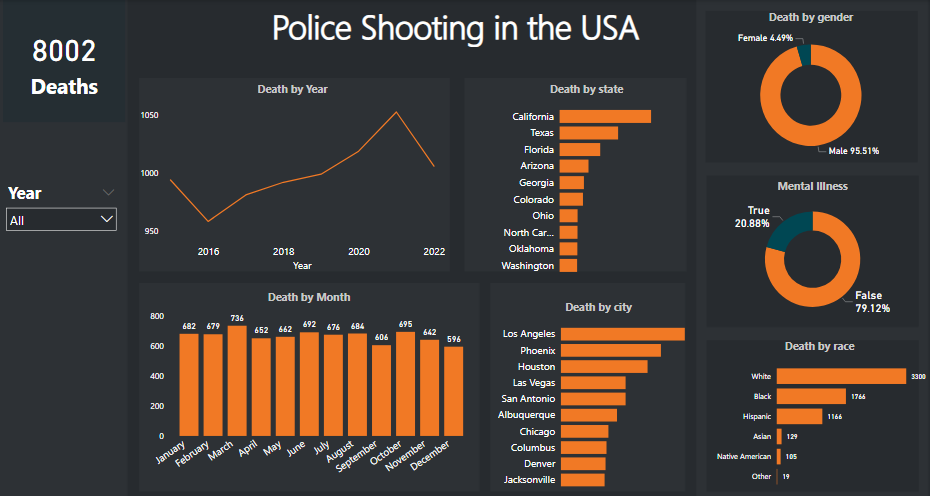

This screenshot's page, from the dashboard's own definition file:
{"tool":"powerbi","page":{"name":"Page 1","canvas":[1500,800],"ordinal":0},"visuals":[{"type":"donutChart","title":"Death by gender","fields":{"Category":["police_shooting.gender"],"Y":["Calculation.Total_Death"]},"box":[1140.3,14.5,335.5,254.8],"z":0},{"type":"barChart","title":"Death by state","fields":{"Category":["police_shooting.state"],"Y":["Calculation.Total_Death"]},"box":[790.3,130.6,311.3,324.2],"z":1000},{"type":"clusteredBarChart","title":"Death by race","fields":{"Category":["police_shooting.race"],"Y":["Calculation.Total_Death"]},"box":[1143.5,545.2,356.5,254.8],"z":2000},{"type":"lineChart","title":"Death by Year","fields":{"Category":["police_shooting.date.Variation.Date Hierarchy.Year"],"Y":["Calculation.Total_Death"]},"box":[221,130.6,501.6,312.9],"z":3000},{"type":"card","fields":{"Values":["Calculation.Total_Death"]},"box":[4.8,0,196.8,196.8],"z":4000},{"type":"slicer","fields":{"Values":["police_shooting.date.Variation.Date Hierarchy.Year"]},"box":[0,287.1,198.4,119.4],"z":5000},{"type":"clusteredColumnChart","title":"Death by Month","fields":{"Category":["police_shooting.date.Variation.Date Hierarchy.Month"],"Y":["Calculation.Total_Death"]},"box":[229,466.1,538.7,321],"z":6000},{"type":"clusteredBarChart","title":"Death by city","fields":{"Category":["police_shooting.city"],"Y":["Calculation.Total_Death"]},"box":[790.3,482.3,350,317.7],"z":7000},{"type":"donutChart","title":"Mental Illness","fields":{"Category":["police_shooting.signs_of_mental_illness"],"Y":["Calculation.Total_Death"]},"box":[1145.2,287.1,330.6,238.7],"z":8000},{"type":"textbox","box":[433.9,0,635.5,80.6],"z":10000}]}

Visuals, with their boxes in screenshot pixels (x1, y1, x2, y2), scaled from the page's 1500x800 canvas onto the 930x496 screenshot:
"Death by gender" donutChart: bbox(707, 9, 915, 167)
"Death by state" barChart: bbox(490, 81, 683, 282)
"Death by race" clusteredBarChart: bbox(709, 338, 929, 495)
"Death by Year" lineChart: bbox(137, 81, 448, 275)
card - Calculation.Total_Death: bbox(3, 0, 125, 122)
slicer - police_shooting.date.Variation.Date Hierarchy.Year: bbox(0, 178, 123, 252)
"Death by Month" clusteredColumnChart: bbox(142, 289, 476, 488)
"Death by city" clusteredBarChart: bbox(490, 299, 707, 495)
"Mental Illness" donutChart: bbox(710, 178, 915, 326)
textbox: bbox(269, 0, 663, 50)
